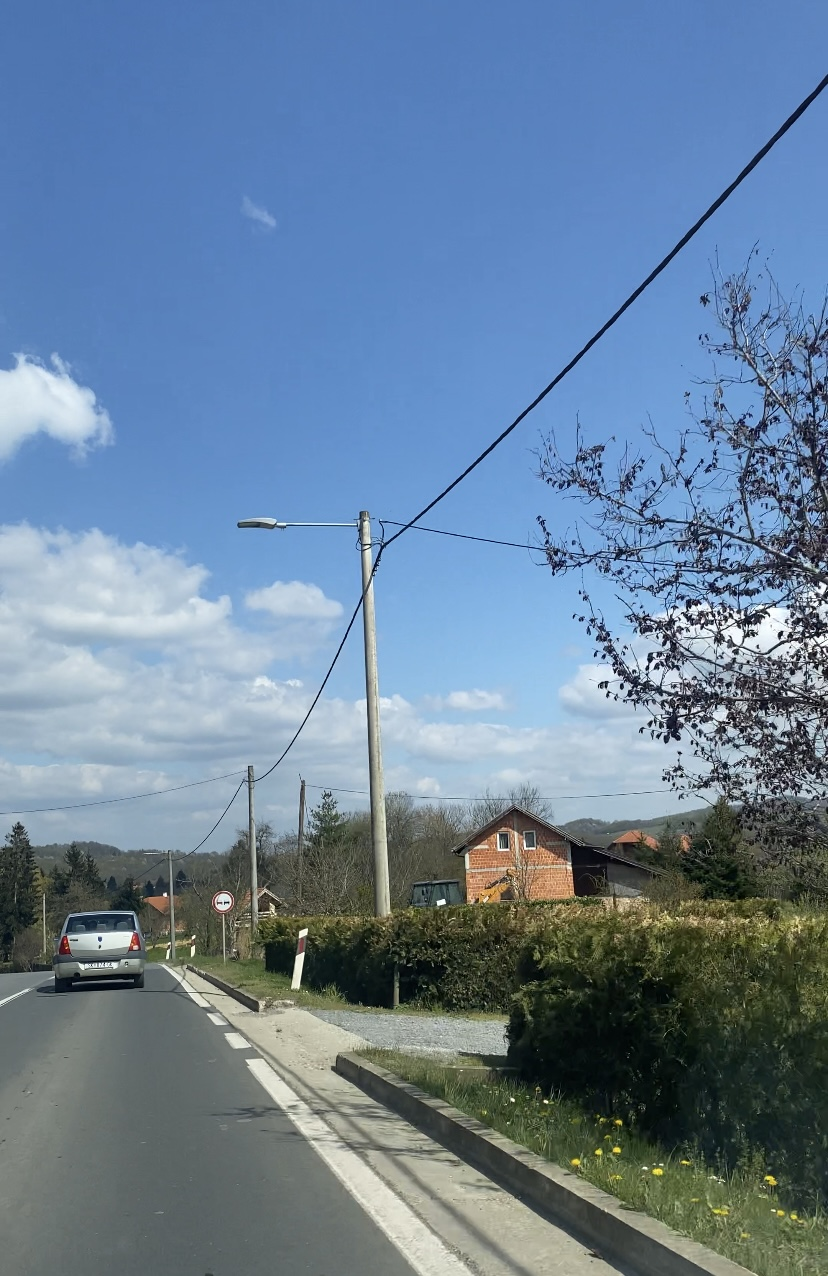Zabrana pretjecanja: (211, 890, 235, 914)
